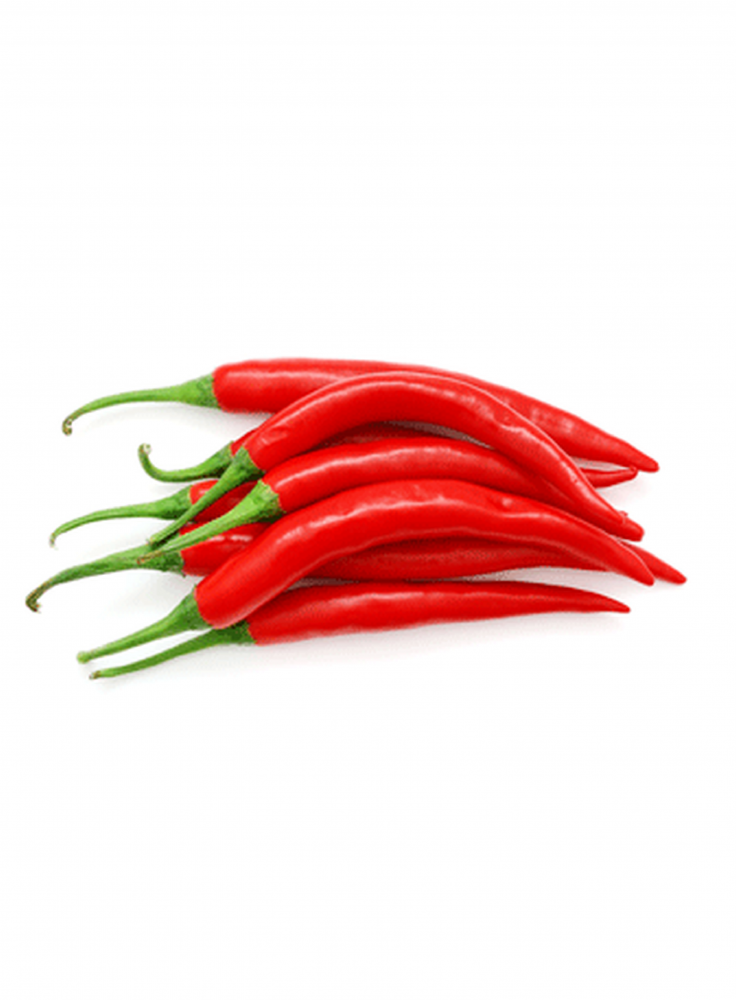Cabai: (41, 300, 689, 721)
